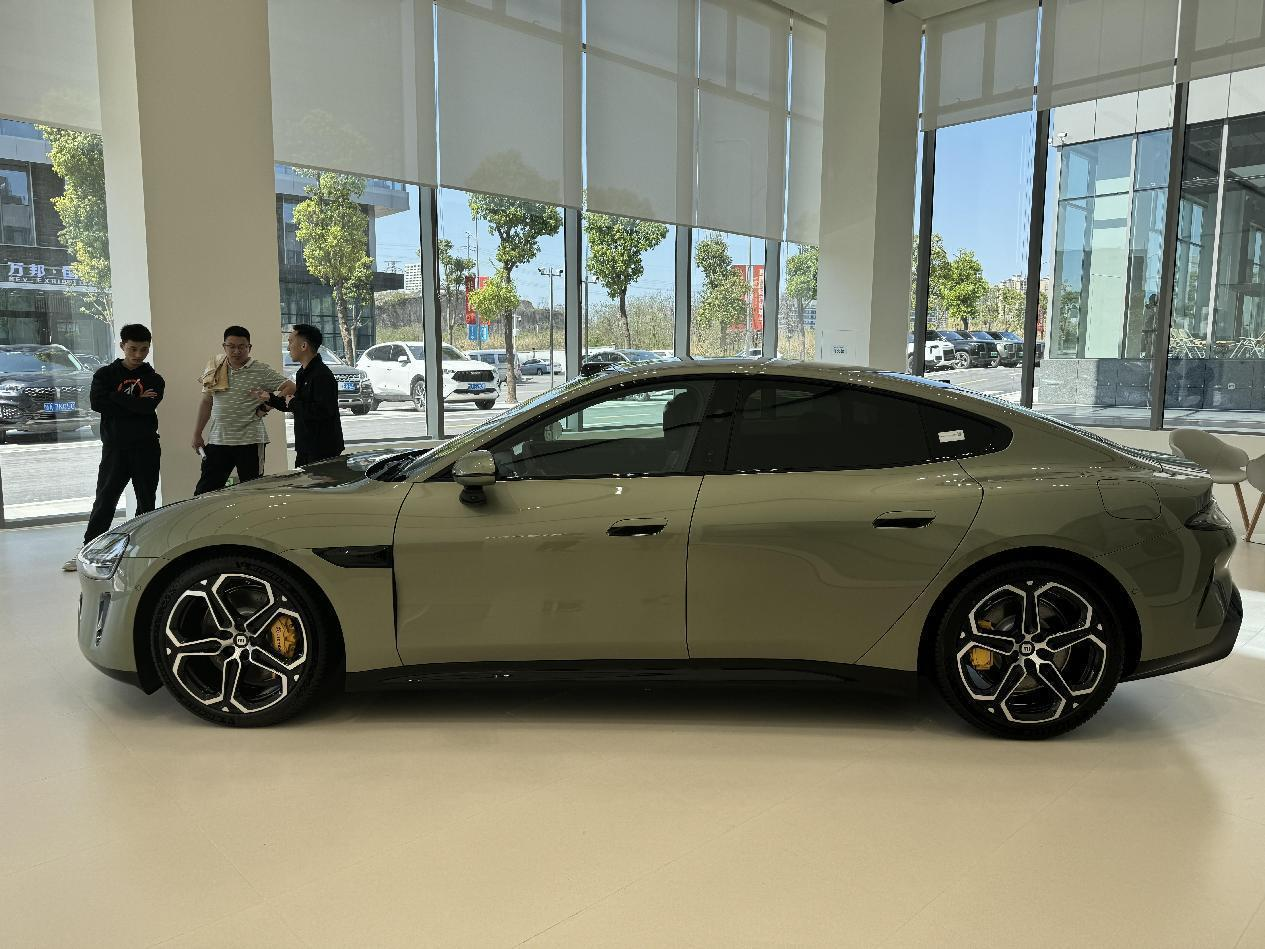other: (352, 335, 503, 407), (0, 345, 96, 443)
su7: (89, 375, 1250, 750)
